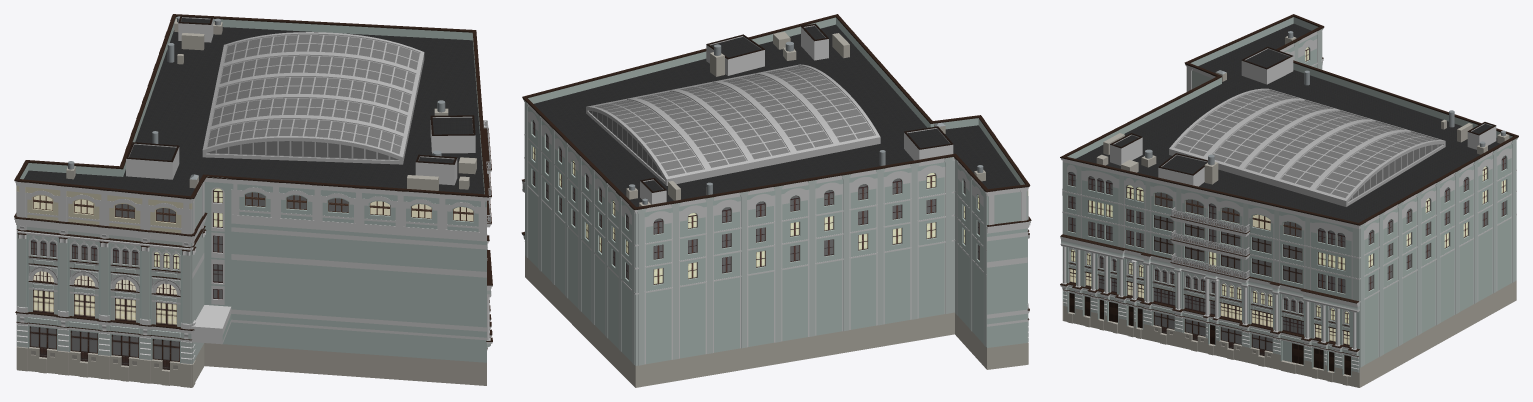
Rendered from houseForStreet11.fbx.
3 views of the same model, side by side, from view 1: azimuth 30°, elevation 25°; view 2: azimuth 150°, elevation 25°; view 3: azimuth 270°, elevation 25° (orthographic). The views are drawn at different scales.
Visible parts, largest first — view 1: 01080-50@106211; view 2: 01080-50@106211; view 3: 01080-50@106211.
Part boxes in pixels (bbox=[...]): 01080-50@106211: bbox=[14, 14, 492, 387]; 01080-50@106211: bbox=[521, 14, 1031, 387]; 01080-50@106211: bbox=[1060, 14, 1518, 387].
Bounding box in the file's own units: 78.46 × 31.46 × 71.84.
1 material, 1 textured.
